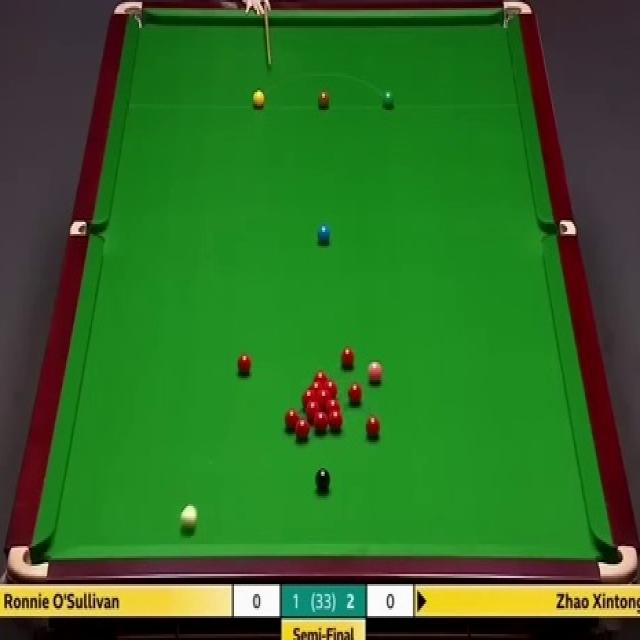black-ball: (315, 467, 331, 493)
blue-ball: (317, 224, 330, 242)
brown-ball: (317, 92, 330, 109)
green-ball: (382, 88, 396, 112)
pink-ball: (367, 362, 383, 384), (317, 363, 332, 380)
red-ball: (365, 415, 381, 439), (294, 417, 310, 441), (313, 412, 328, 437), (348, 380, 362, 406), (238, 353, 252, 378), (327, 412, 344, 432), (341, 347, 355, 371), (284, 408, 299, 430), (306, 402, 322, 422), (303, 388, 316, 408), (324, 378, 337, 394), (310, 379, 323, 394), (325, 399, 339, 411)
white-ball: (180, 504, 197, 534)
yellow-ball: (252, 89, 266, 110)
